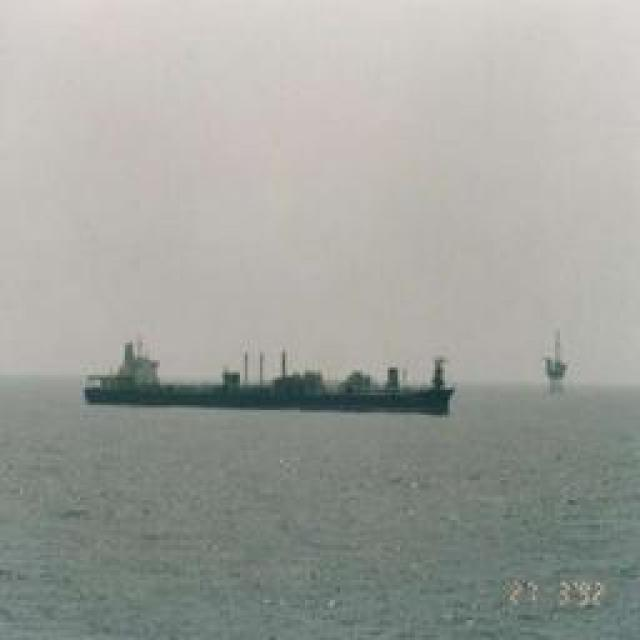CIV_Ship: (81, 340, 466, 415)
